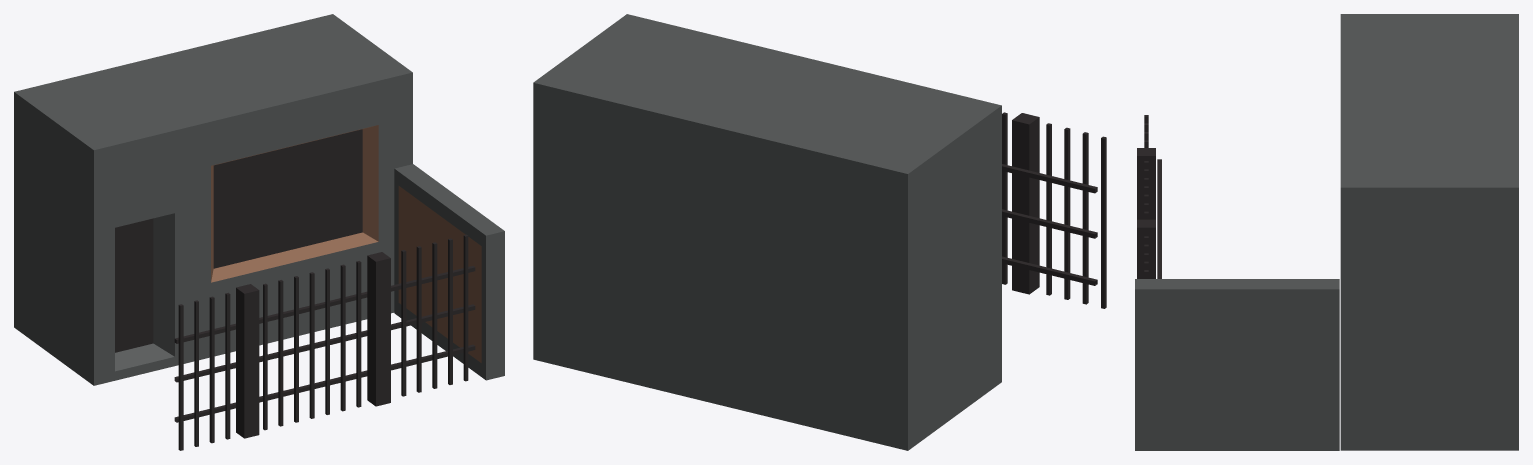
File: casa_2.fbx
3 renders of one model, left to right at view 1: azimuth 30°, elevation 25°; view 2: azimuth 150°, elevation 25°; view 3: azimuth 270°, elevation 25°, orthographic. The views are drawn at different scales.
Visible parts, largest first — view 1: Cube.002; view 2: Cube.002; view 3: Cube.002.
Boxes of the visible parts, box(x1,y1,x2,y2) form: Cube.002: box(14, 14, 504, 450); Cube.002: box(533, 14, 1106, 450); Cube.002: box(1135, 14, 1518, 450).
Bounding box in the file's own units: 463 × 326 × 431.
